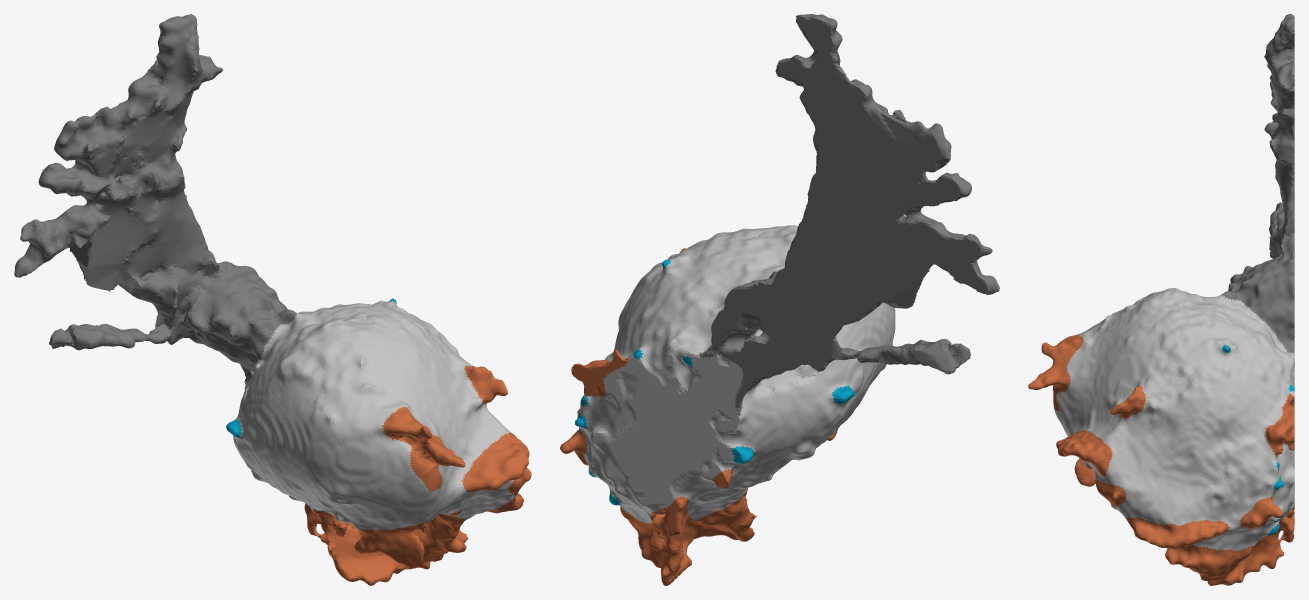
3 renders of one model, left to right at view 1: azimuth 30°, elevation 25°; view 2: azimuth 150°, elevation 25°; view 3: azimuth 270°, elevation 25°, orthographic. The views are drawn at different scales.
Bounding box in the file's own units: 170 × 216 × 106.
